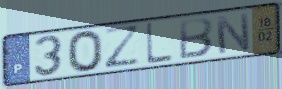3: (32, 34, 66, 78)
B: (177, 16, 215, 61)
L: (145, 21, 175, 67)
N: (213, 11, 253, 56)
O: (66, 29, 105, 74)
Z: (102, 23, 143, 71)
